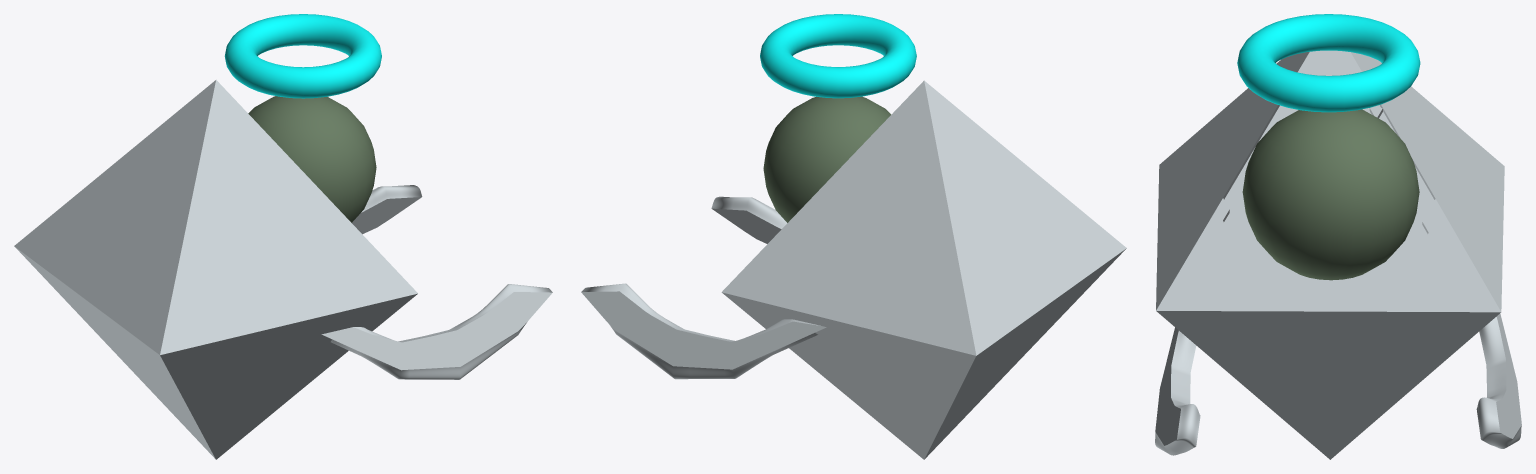
File: Debugging Program [Neutral].fbx
3 renders of one model, left to right at view 1: azimuth 30°, elevation 25°; view 2: azimuth 150°, elevation 25°; view 3: azimuth 270°, elevation 25°, orthographic. The views are drawn at different scales.
Visible parts, largest first — view 1: Platonic, Torus, Sphere, Cap_2, Right_Arm, Cap_2_2, Left_Arm_1; view 2: Platonic, Torus, Sphere, Cap_1_2, Left_Arm_1, Cap_1, Right_Arm; view 3: Platonic, Sphere, Torus, Left_Arm_1, Right_Arm, Cap_1_2, Cap_2.
Boxes of the visible parts, x1,y1,x2,y2 form: Platonic: [14, 80, 417, 459]; Torus: [224, 14, 381, 98]; Sphere: [248, 96, 376, 222]; Cap_2: [321, 292, 552, 370]; Right_Arm: [331, 284, 552, 379]; Cap_2_2: [352, 197, 421, 234]; Left_Arm_1: [361, 185, 422, 212]; Platonic: [721, 80, 1126, 459]; Torus: [760, 14, 916, 98]; Sphere: [763, 96, 891, 222]; Cap_1_2: [581, 291, 826, 369]; Left_Arm_1: [581, 283, 820, 379]; Cap_1: [712, 208, 781, 243]; Right_Arm: [711, 196, 787, 229]; Platonic: [1156, 50, 1504, 459]; Sphere: [1242, 109, 1419, 280]; Torus: [1237, 14, 1420, 112]; Left_Arm_1: [1476, 317, 1521, 448]; Right_Arm: [1155, 331, 1200, 455]; Cap_1_2: [1496, 313, 1521, 438]; Cap_2: [1155, 327, 1180, 445].
Size of the model in its own units: 220 by 209 by 150.
